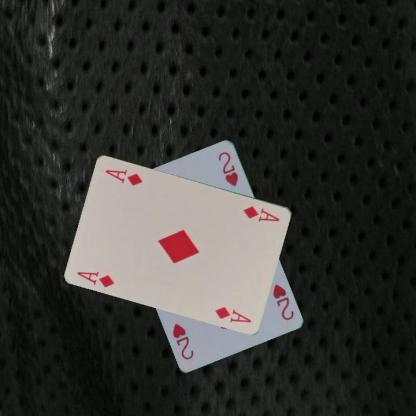2h: (269, 281, 295, 321)
Ad: (75, 268, 116, 289), (241, 203, 281, 223)
